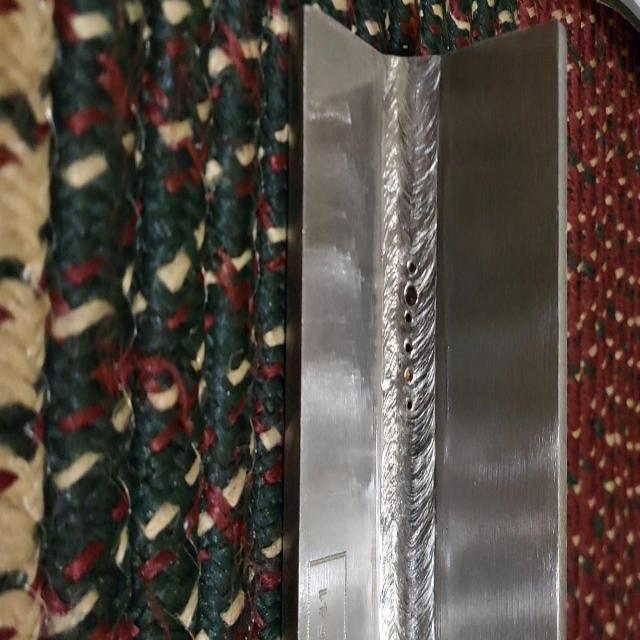Workpiece: (382, 57, 438, 640)
porosity: (404, 256, 418, 412)
